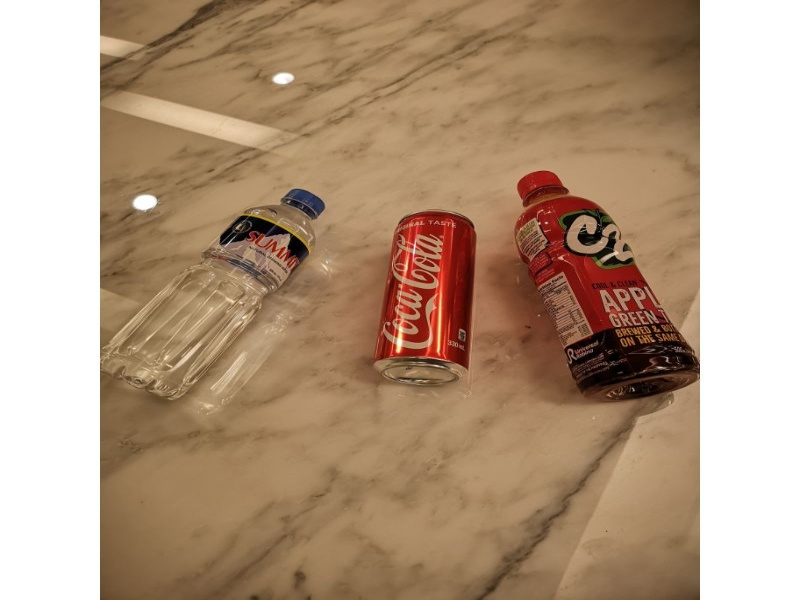PET #1: (100, 188, 337, 401), (506, 166, 699, 403)
